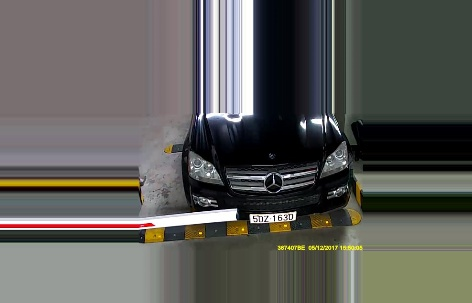plate: (249, 208, 294, 222)
